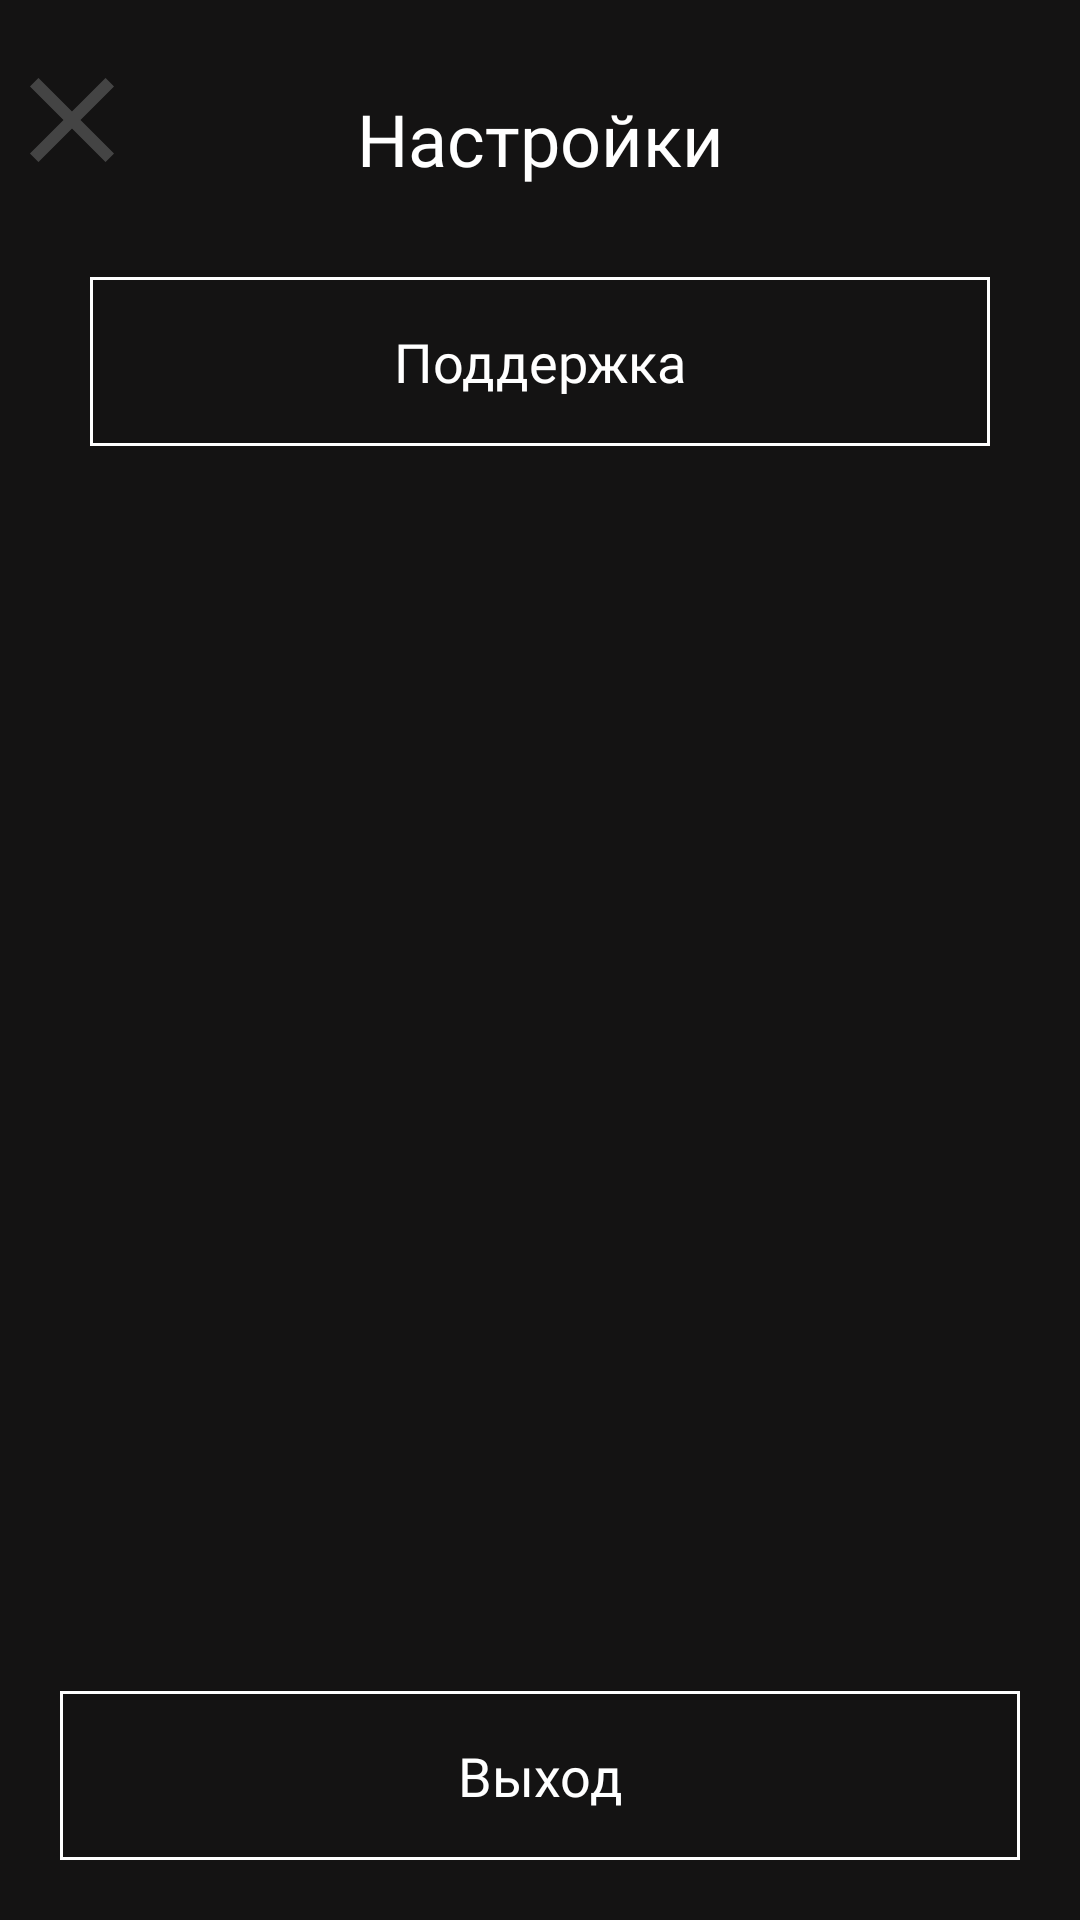

Locate icon controls on the screen. Image size 1080 × 1920, boxes as (x1, y1, x2, y2).
Close: (30, 78, 114, 162)
